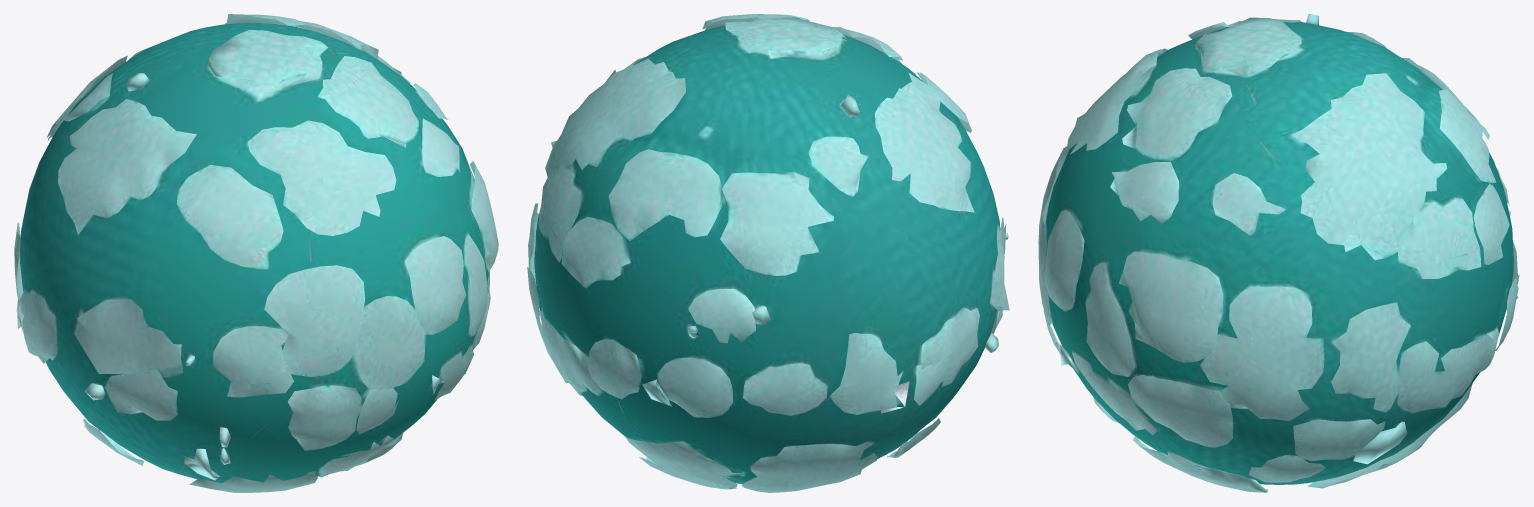
The model's file is prop_gumdrop.glb.
3 renders of one model, left to right at view 1: azimuth 30°, elevation 25°; view 2: azimuth 150°, elevation 25°; view 3: azimuth 270°, elevation 25°, orthographic.
Parts seen in each view (by area): view 1: prop_gumdrop; view 2: prop_gumdrop; view 3: prop_gumdrop.
Boxes of the visible parts, left/top/right/bottom form: prop_gumdrop: left=14, top=14, right=498, bottom=492; prop_gumdrop: left=527, top=14, right=1009, bottom=492; prop_gumdrop: left=1038, top=14, right=1519, bottom=492.
Bounding box in the file's own units: 1.54 × 1.5 × 1.54.
1 material, 1 textured.
